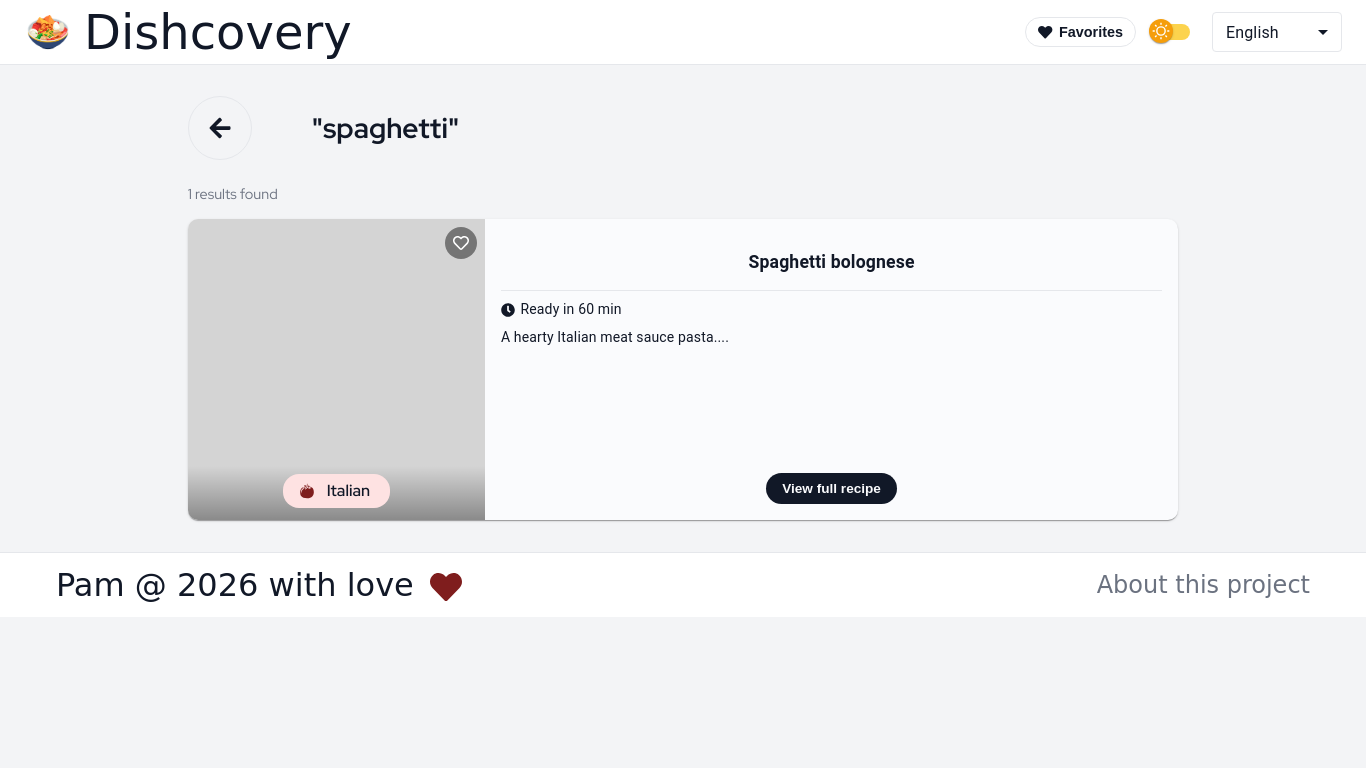
Favorites flow › shows the remove modal when clicking a filled heart
This screenshot has width=1366, height=768.
Click the button named "add to favorites" at (461, 243), box [445,227,477,259]
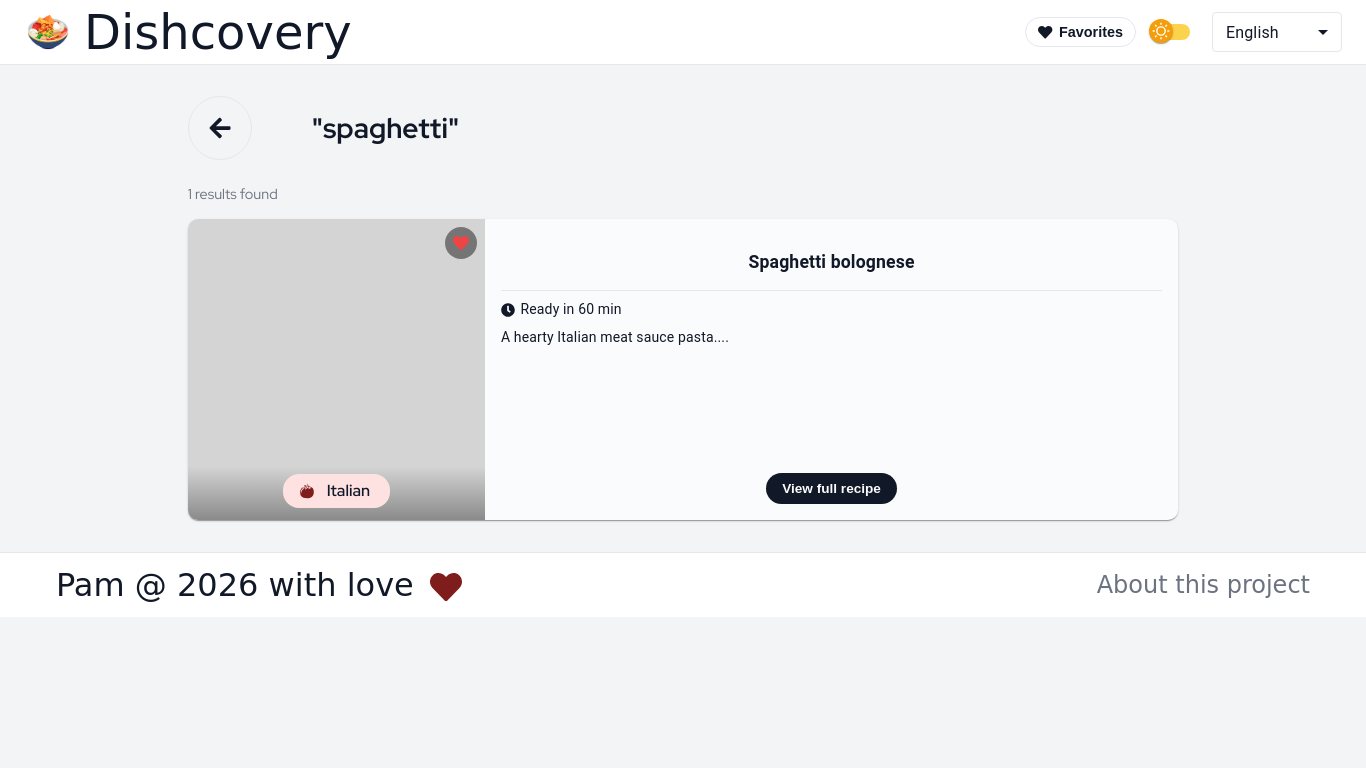
Click the button named "remove from favorites" at (461, 243), box [445,227,477,259]
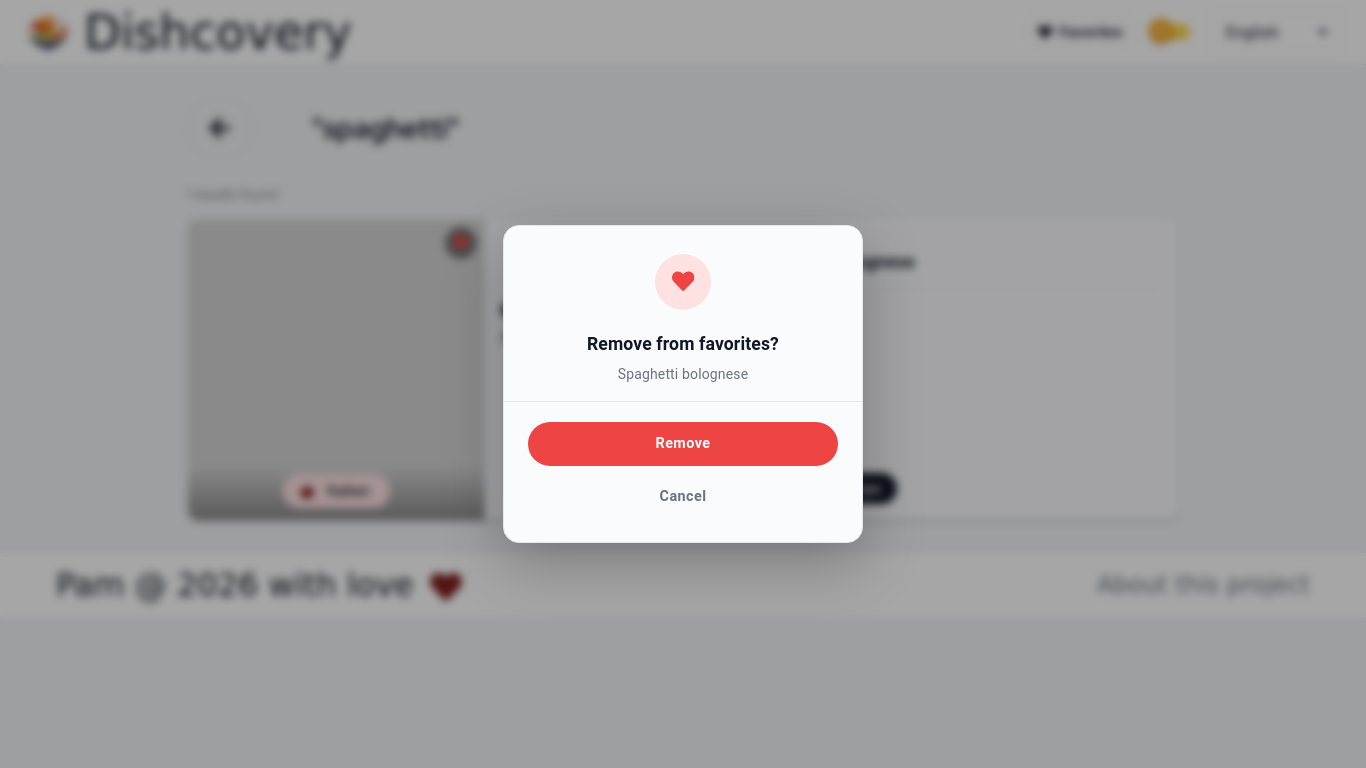
Check: the heading "Remove from favorites?" is shown, box [587,334,779,354]
Check: the button "Cancel" is shown, box [528,474,838,518]
